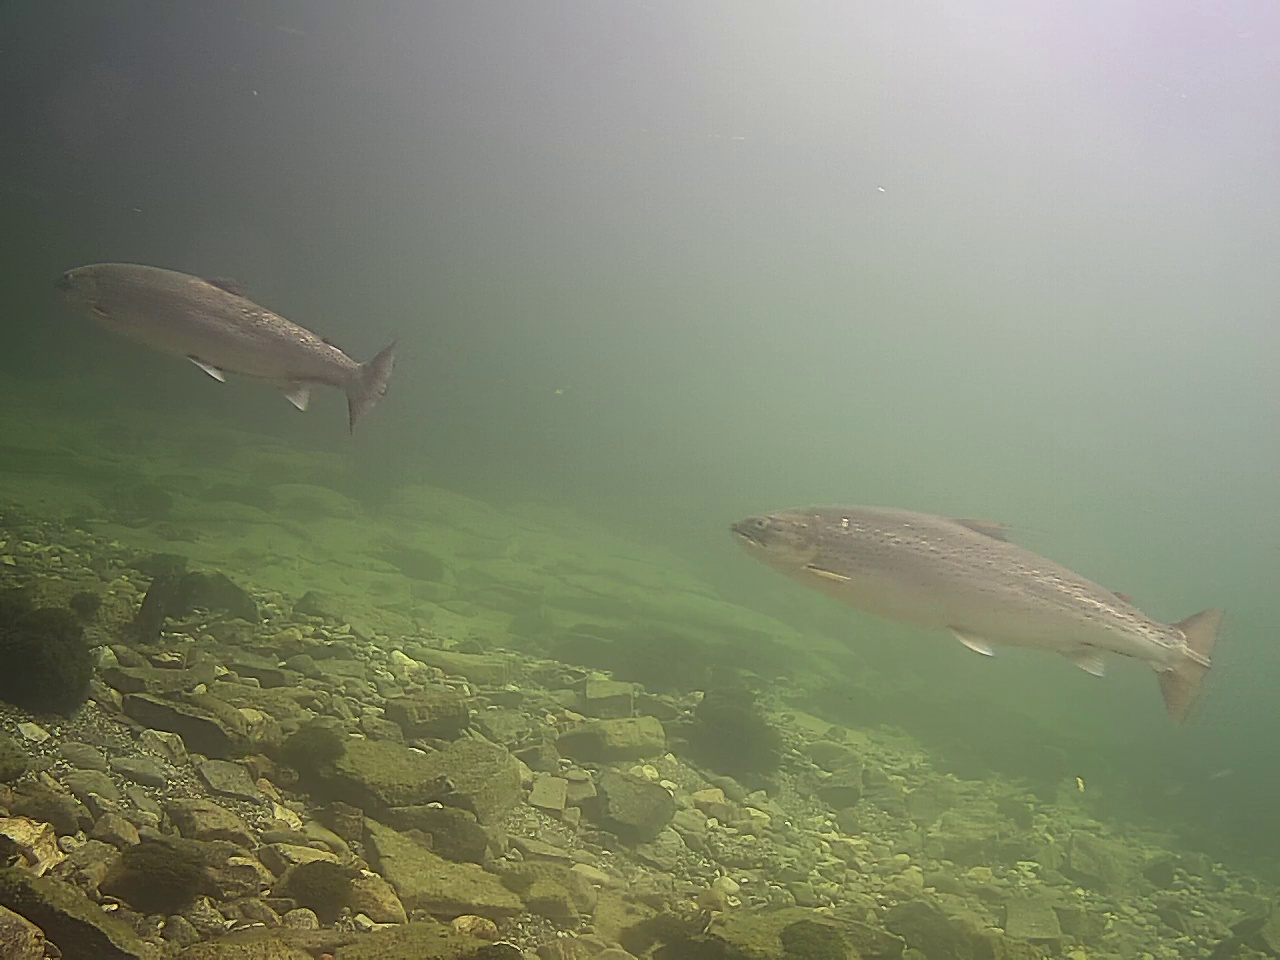salmon: (728, 500, 1226, 721), (53, 260, 400, 437)
